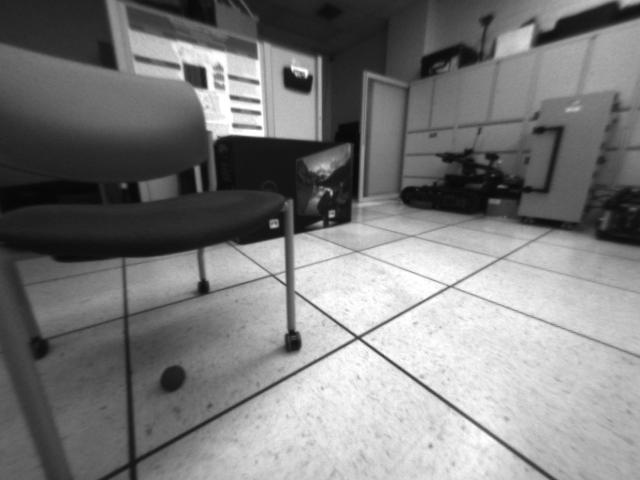dogtoy: (150, 356, 193, 398)
